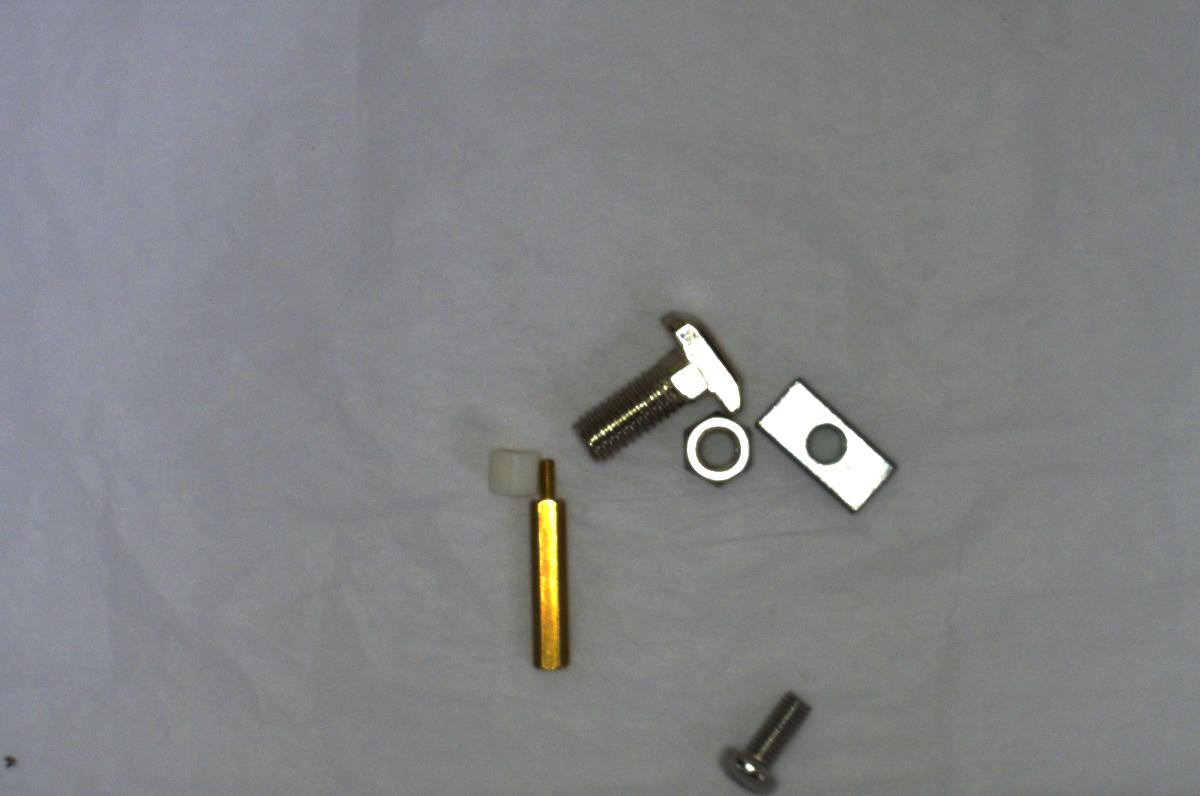Hexagon nut: (671, 405, 758, 498)
Hexagon pillar: (528, 450, 572, 673)
Plastic cushion pillar: (475, 439, 541, 496)
Rectangular nut: (753, 376, 894, 513)
Round head screw: (719, 685, 811, 790)
T-shaped screw: (567, 305, 751, 458)
